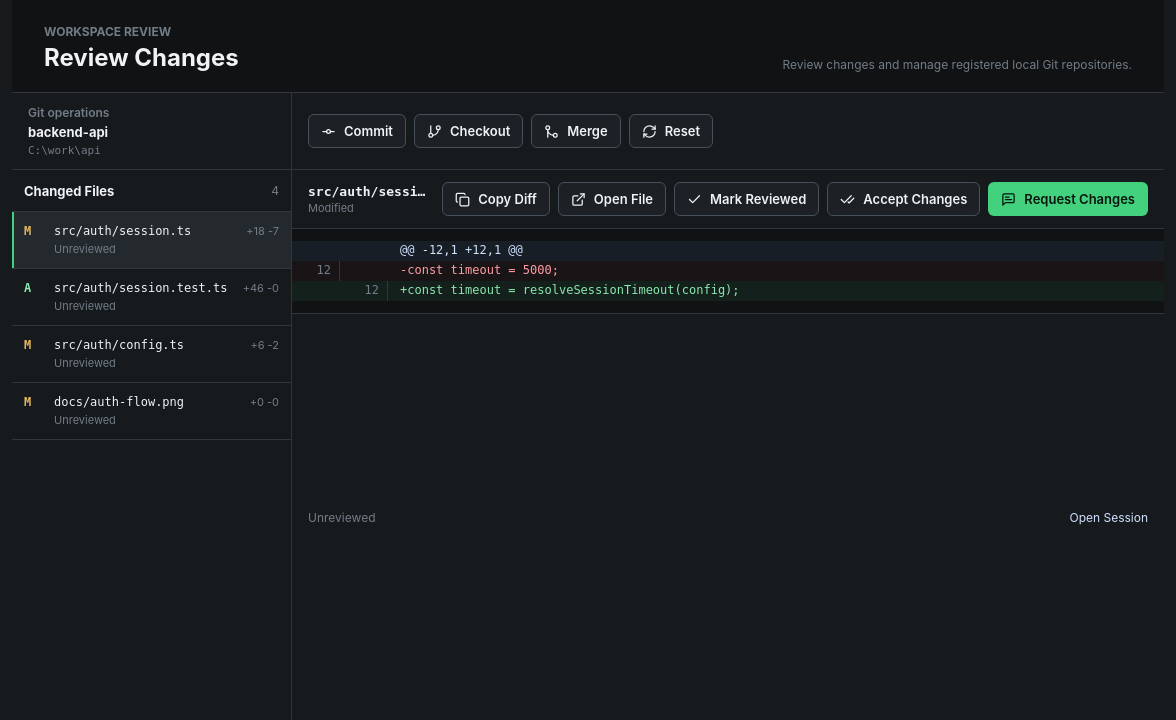
Test: ChangesPage › performs a non-destructive reset without requiring the hard-reset confirmation
Click the button "Reset" at (671, 131), box [629,114,713,148]
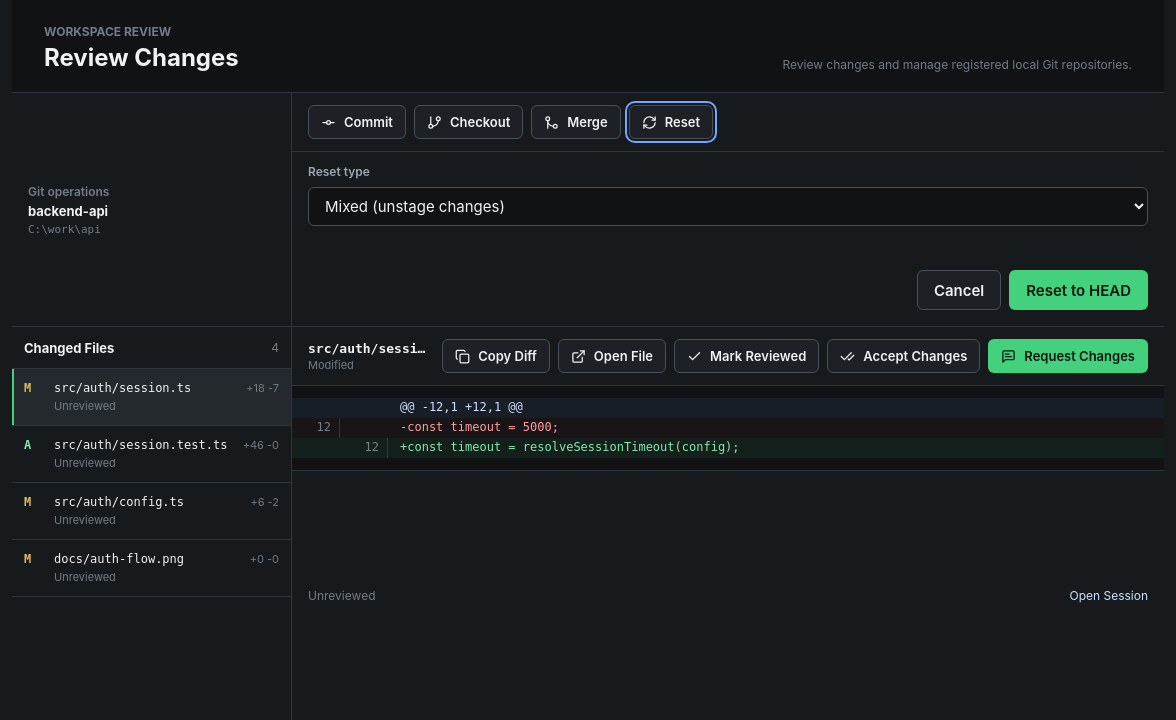
Select "Soft (keep changes staged)" in the dropdown labelled "Reset type" at (728, 206), box [308,187,1148,226]
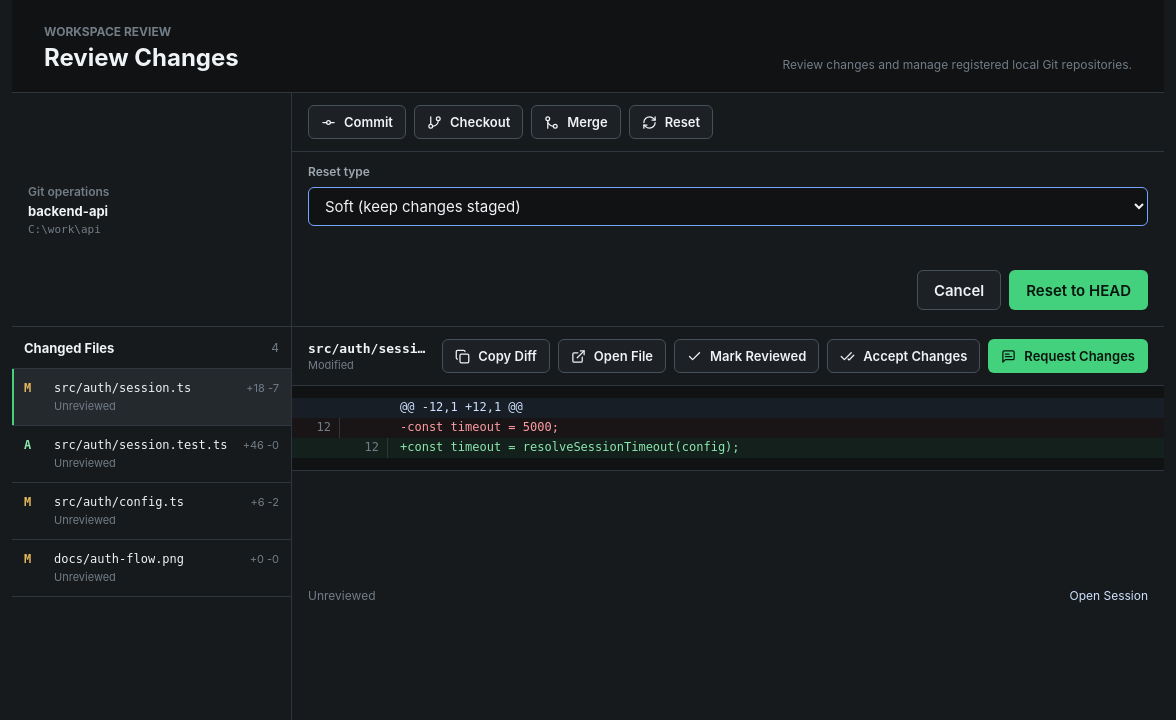
Click the button "Reset to HEAD" at (1079, 290), box [1009,270,1148,310]
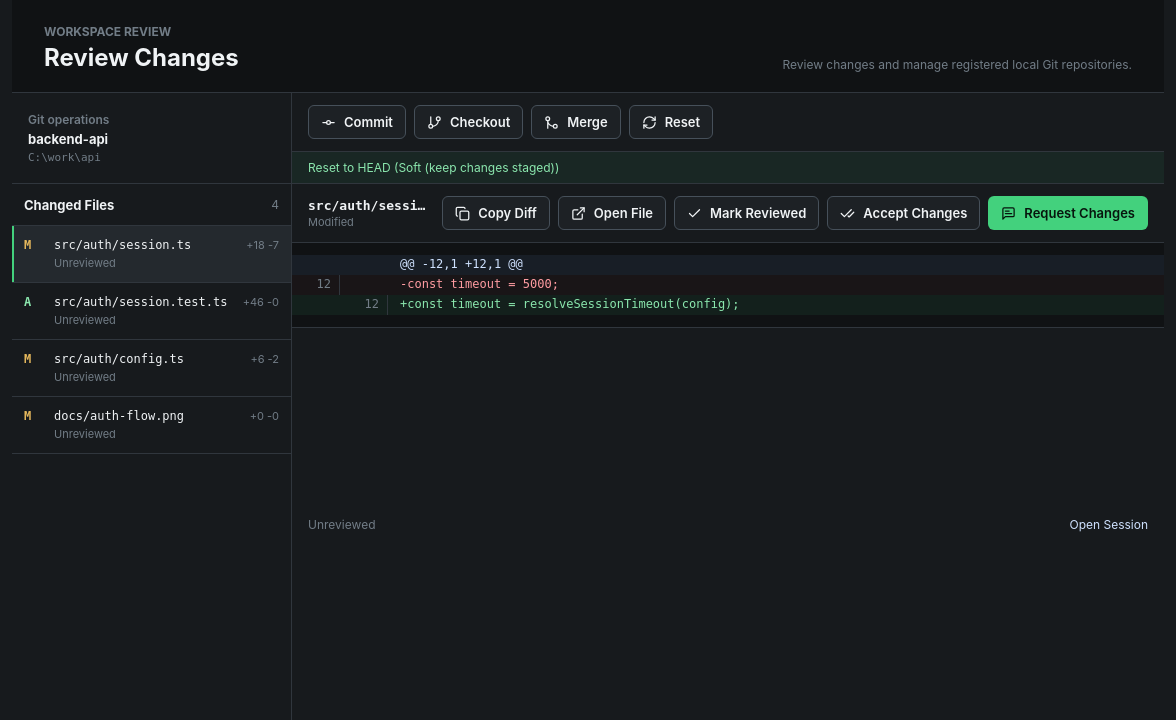
Check: the message reads "Reset to HEAD (Soft (keep changes staged))", box [308,160,559,175]
